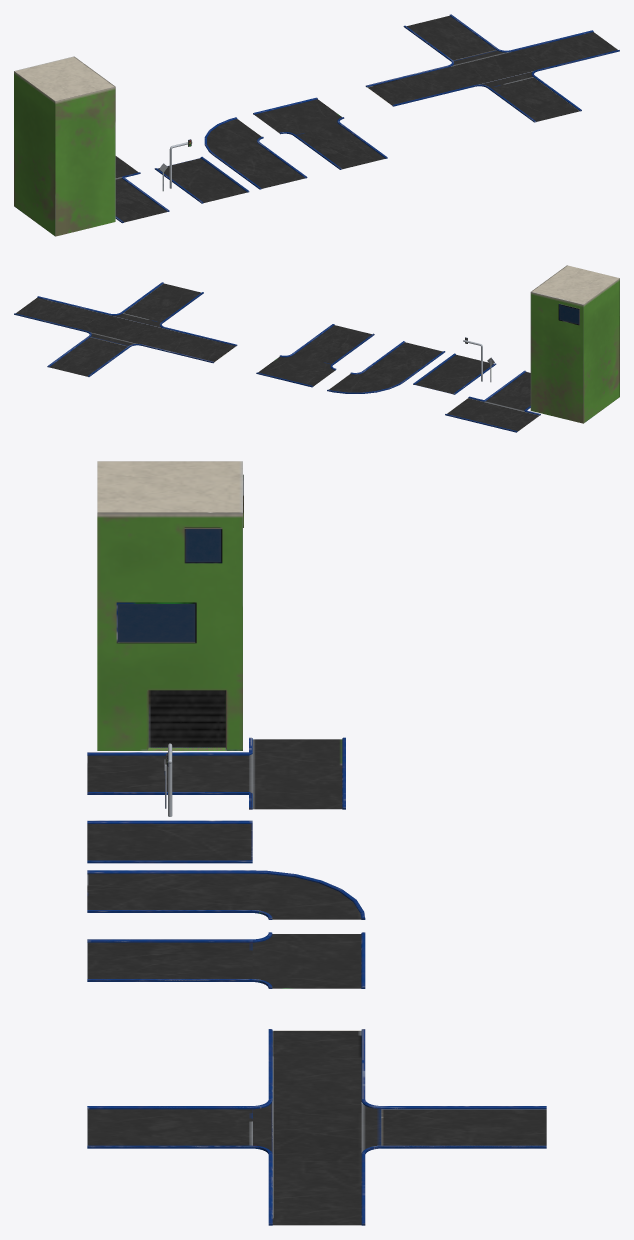
File: jalan raya texture 1.fbx
The picture shows the model from 3 angles, top to bottom: view 1: azimuth 30°, elevation 25°; view 2: azimuth 150°, elevation 25°; view 3: azimuth 270°, elevation 25°; orthographic projection. The views are drawn at different scales.
Parts seen in each view (by area): view 1: gedung, jalan 5, jalan 4, jalan 3, jalan 2, jalan 1; view 2: gedung, jalan 5, jalan 4, jalan 1, jalan 3, jalan 2; view 3: gedung, jalan 5, jalan 1, jalan 4, jalan 3, jalan 2.
Boxes of the visible parts, x1,y1,x2,y2 form: gedung: (14, 56, 115, 236); jalan 5: (365, 14, 619, 122); jalan 4: (253, 97, 387, 169); jalan 3: (204, 117, 307, 189); jalan 2: (154, 156, 249, 203); jalan 1: (115, 156, 169, 223); gedung: (530, 265, 619, 423); jalan 5: (14, 282, 237, 376); jalan 4: (256, 324, 374, 387); jalan 1: (445, 370, 540, 432); jalan 3: (327, 341, 445, 393); jalan 2: (413, 353, 496, 394); gedung: (97, 461, 243, 750); jalan 5: (87, 1029, 546, 1225); jalan 1: (87, 737, 345, 809); jalan 4: (87, 932, 365, 988); jalan 3: (87, 870, 365, 919); jalan 2: (87, 820, 252, 863).
Bounding box in the file's own units: 9029 × 1905 × 3331.
